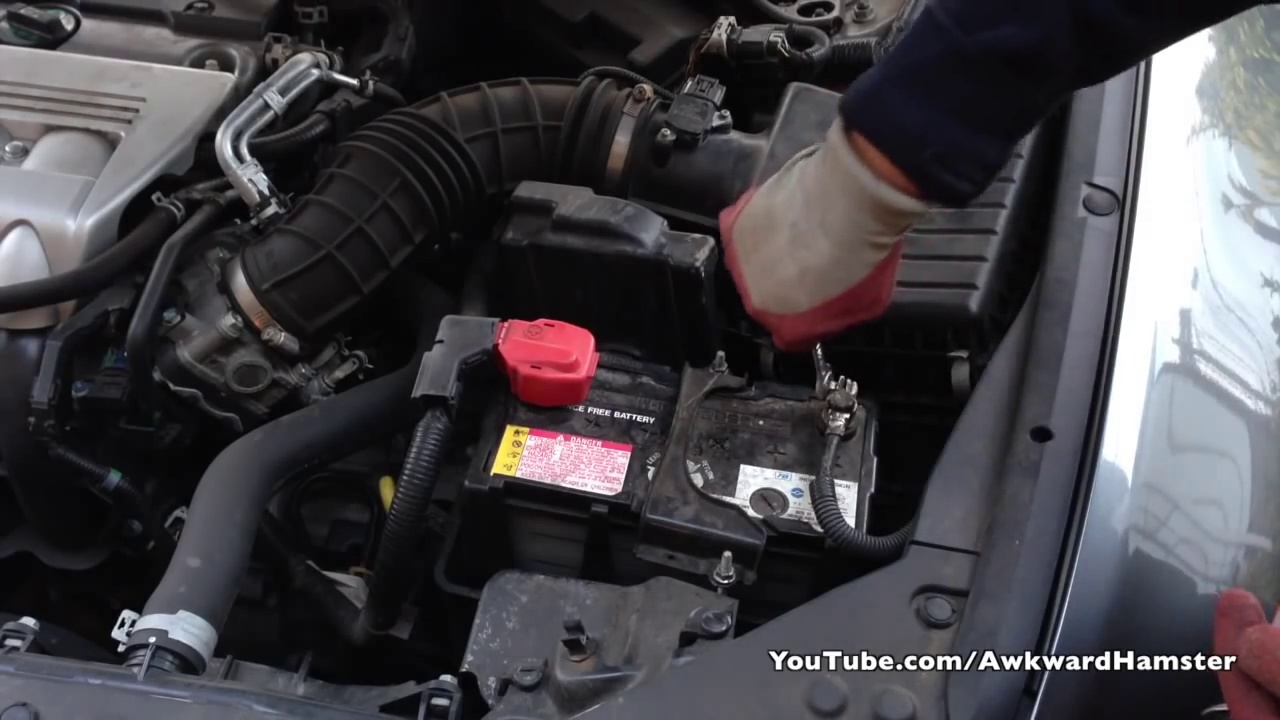battery: (462, 323, 877, 557)
neg_connected: (812, 354, 870, 476)
pos_connected: (432, 284, 609, 419)
